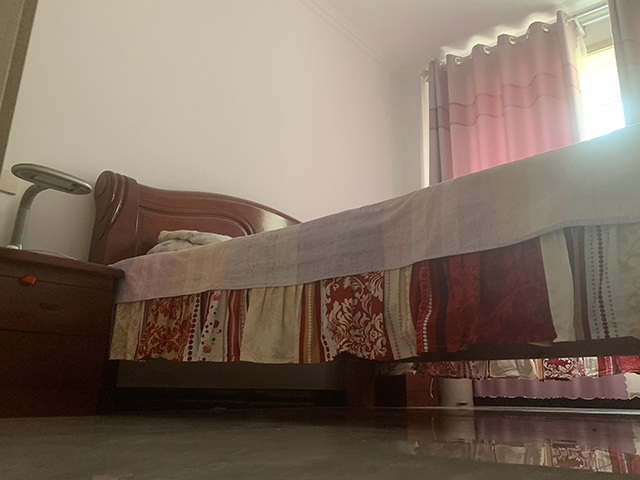bed: (87, 121, 640, 408)
cabinet: (1, 245, 126, 418), (376, 371, 441, 409)
curtain: (426, 13, 619, 400)
trashcan: (438, 376, 475, 408)
